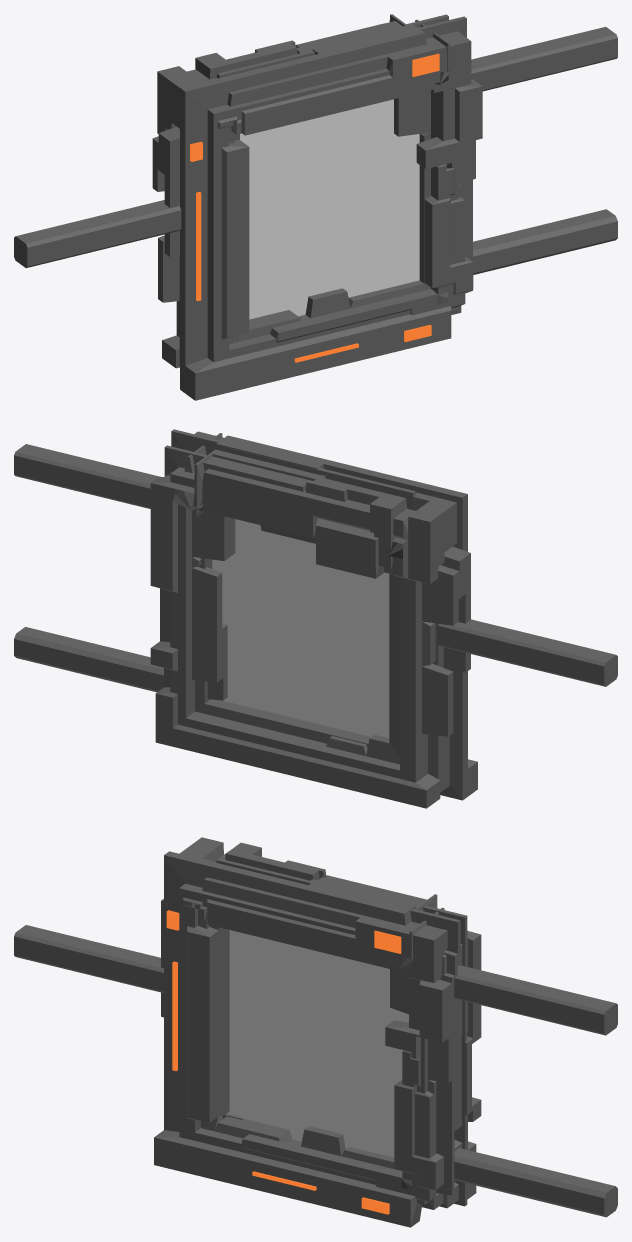
File: PortalFrame.glb
3 renders of one model, top to bottom at view 1: azimuth 30°, elevation 25°; view 2: azimuth 150°, elevation 25°; view 3: azimuth 330°, elevation 25°, orthographic.
Parts seen in each view (by area): view 1: PortalFrame, PortalInFrame; view 2: PortalFrame, PortalInFrame; view 3: PortalFrame, PortalInFrame.
Boxes of the visible parts, x1,y1,x2,y2 form: PortalFrame: (14, 14, 617, 400); PortalInFrame: (240, 99, 419, 319); PortalFrame: (14, 429, 617, 808); PortalInFrame: (212, 519, 389, 737); PortalFrame: (14, 837, 617, 1227); PortalInFrame: (227, 930, 408, 1157).
Bounding box in the file's own units: 15.44 × 7.56 × 2.11.
